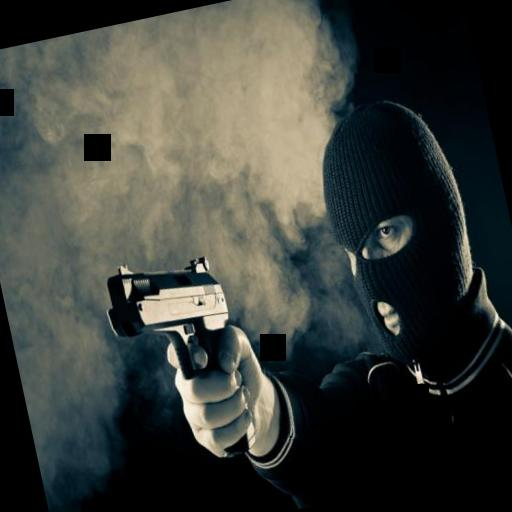Handgun: (95, 236, 241, 394)
